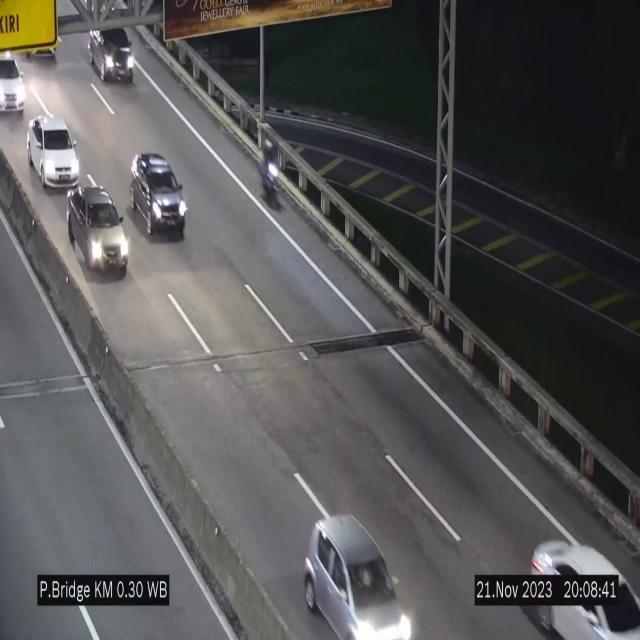Car: (305, 517, 415, 639), (528, 529, 640, 640), (67, 184, 129, 276), (130, 152, 186, 238), (28, 116, 80, 189), (86, 17, 138, 90), (0, 43, 30, 125)
Motorcycle: (260, 139, 284, 213)
